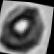correct: (0, 1, 53, 54)
